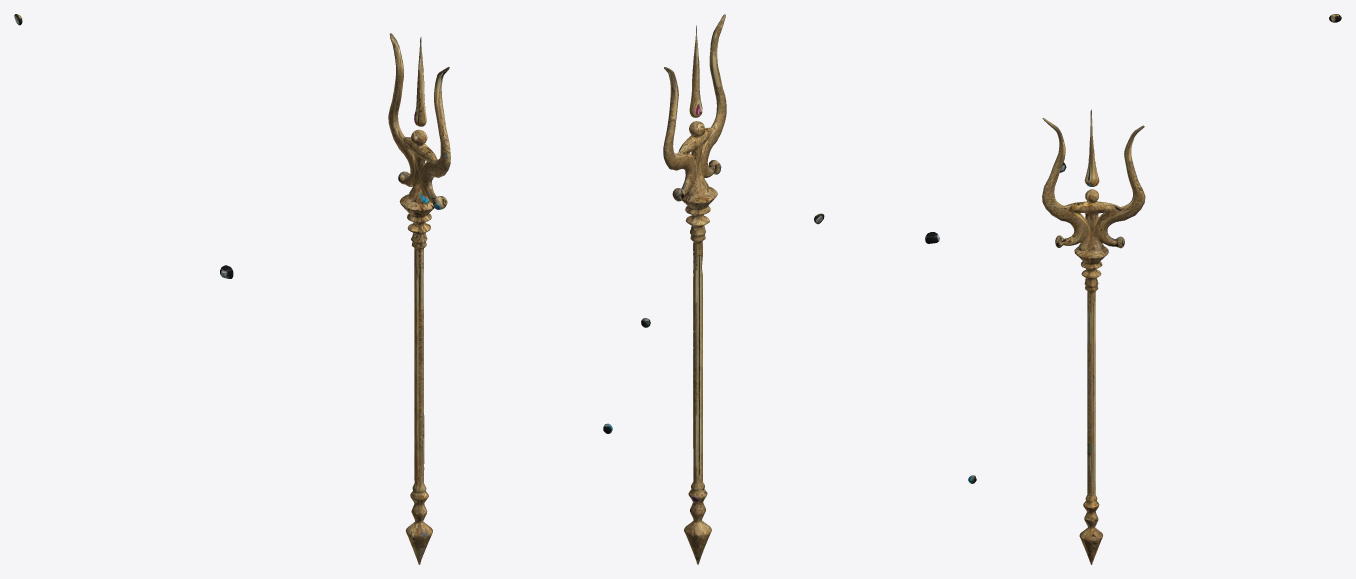
The model's file is trident.glb.
The picture shows the model from 3 angles, left to right: view 1: azimuth 30°, elevation 25°; view 2: azimuth 150°, elevation 25°; view 3: azimuth 270°, elevation 25°; orthographic projection. The views are drawn at different scales.
Bounding box in the file's own units: 1.54 × 2.01 × 1.49.
Materials: 1 (1 with a texture image).
